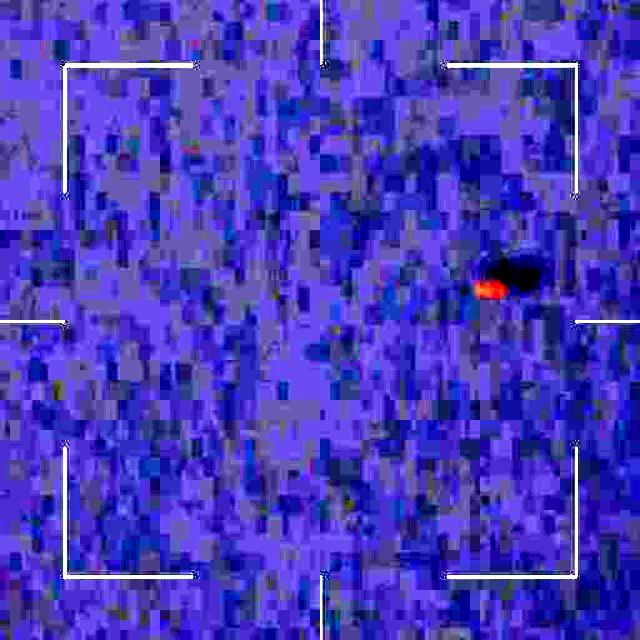bird: (474, 265, 509, 309)
